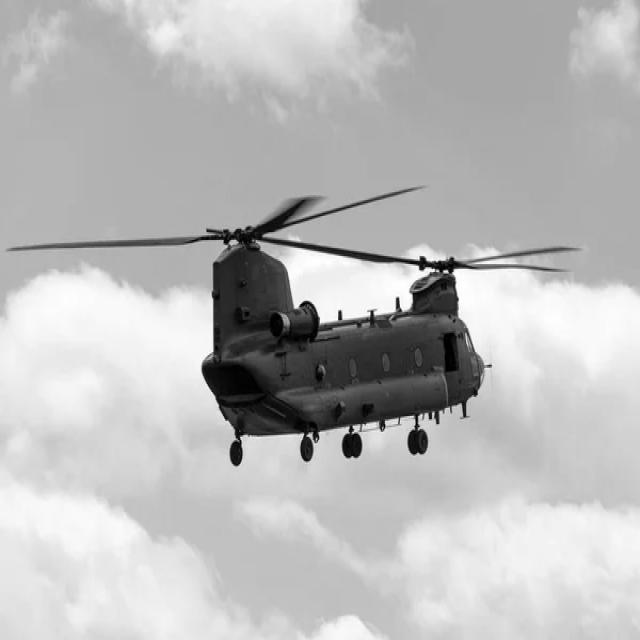Helicopter: (8, 188, 578, 467)
